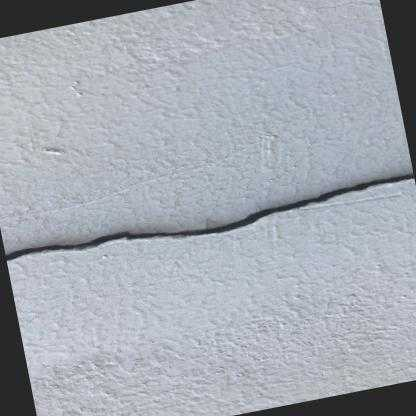crack: (5, 172, 414, 259)
